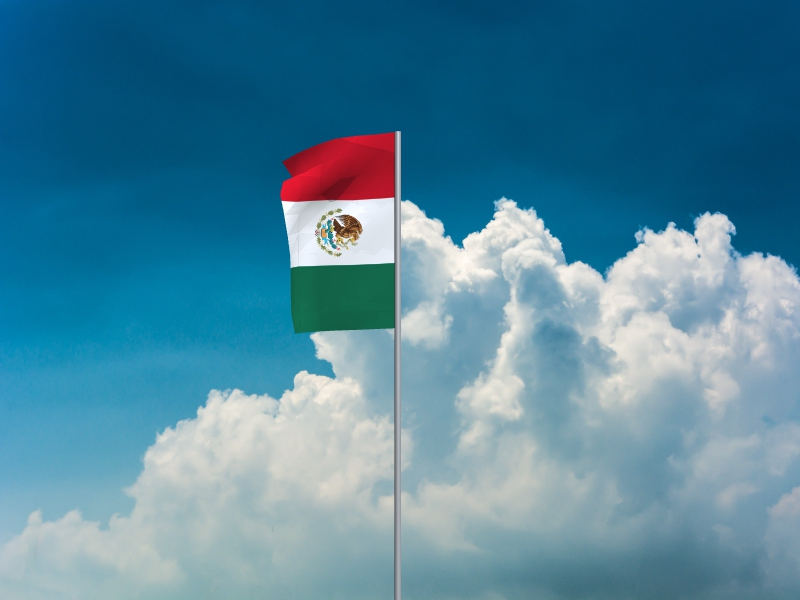mx: (280, 134, 395, 335)
